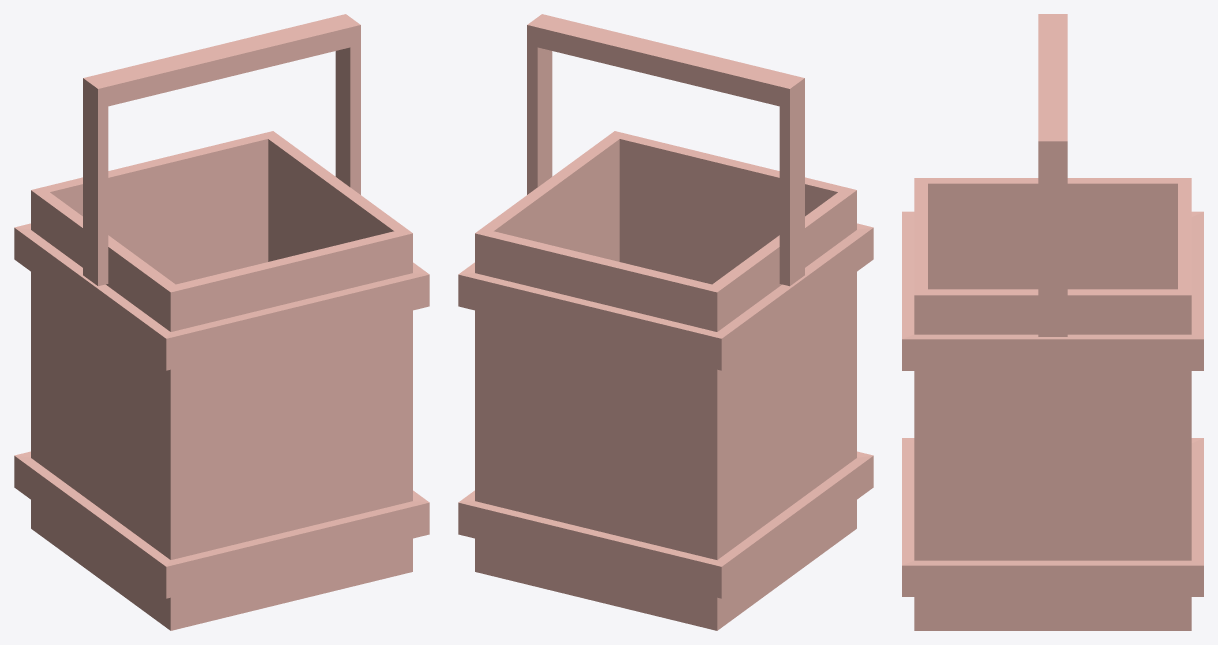
File: Mega_Asset_s_Pack_Cube_031.FBX
3 renders of one model, left to right at view 1: azimuth 30°, elevation 25°; view 2: azimuth 150°, elevation 25°; view 3: azimuth 270°, elevation 25°, orthographic.
Visible parts, largest first — view 1: Mega_Asset_s_Pack_Cube_031; view 2: Mega_Asset_s_Pack_Cube_031; view 3: Mega_Asset_s_Pack_Cube_031.
Part boxes in pixels (<box>): Mega_Asset_s_Pack_Cube_031: <box>14,14,429,630</box>; Mega_Asset_s_Pack_Cube_031: <box>458,14,873,630</box>; Mega_Asset_s_Pack_Cube_031: <box>902,14,1203,630</box>.
Size of what is drawn, in the model's own units: 62.05 by 62.05 by 112.
